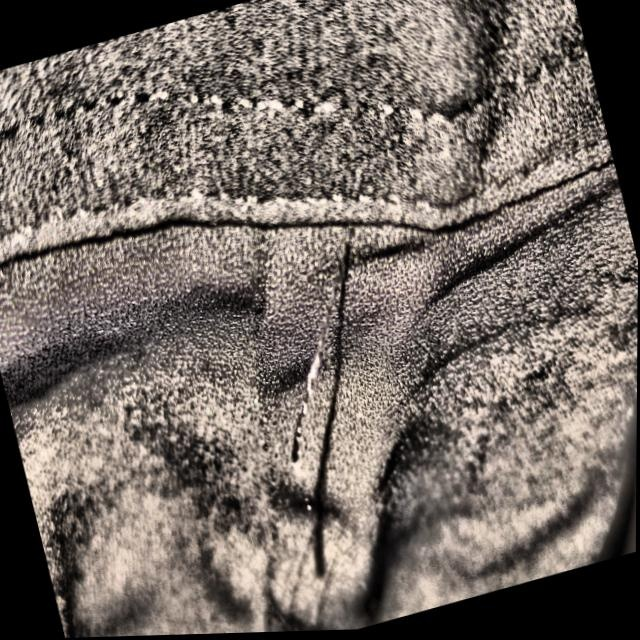Stitch: (195, 179, 430, 578)
